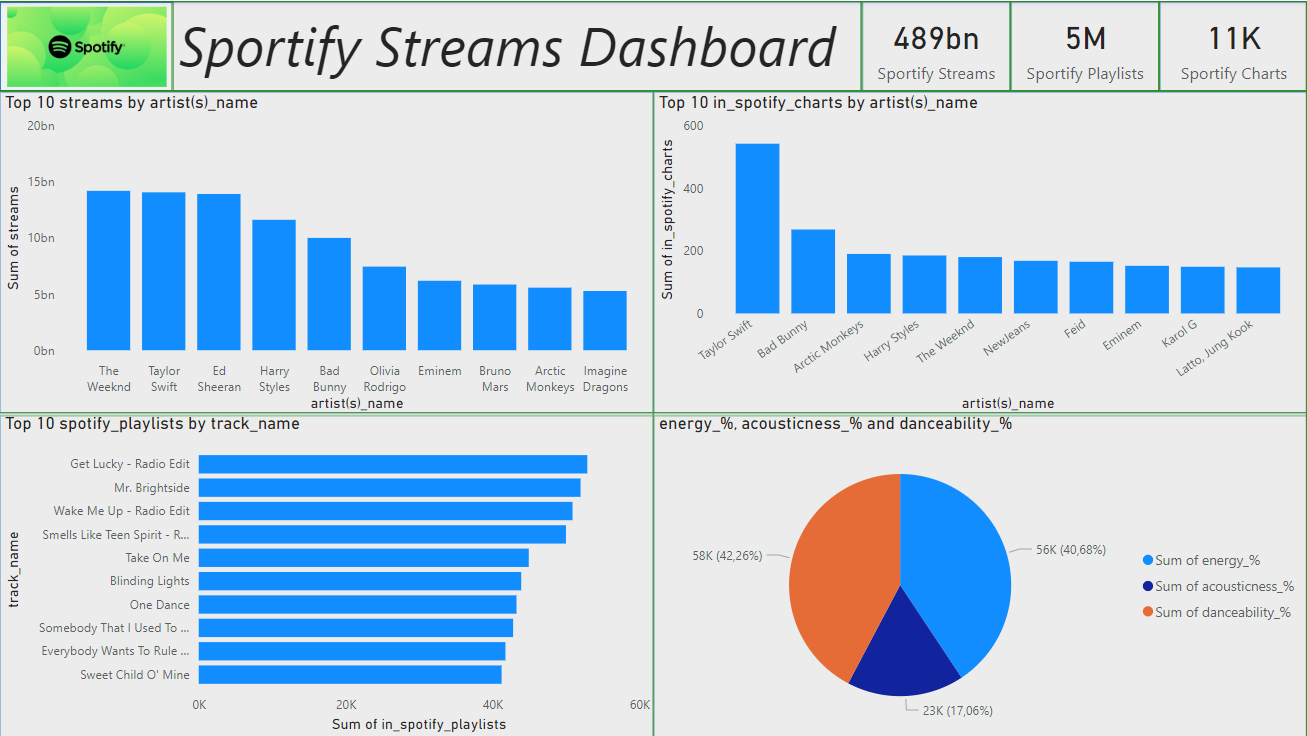

The page's visual inventory and layout, read from the dashboard file:
{"tool":"powerbi","page":{"name":"Page 2","canvas":[1280,720],"ordinal":1},"visuals":[{"type":"shape","box":[0,0,1280.3,87.8],"z":0},{"type":"shape","box":[0,87.8,640.8,318.4],"z":1000},{"type":"shape","box":[639.5,87.8,640.8,318.4],"z":2000},{"type":"shape","box":[0,402.4,640.8,317.8],"z":3000},{"type":"shape","box":[639.5,402.1,640.8,318.4],"z":4000},{"type":"image","box":[0,0,170,88],"z":5000},{"type":"textbox","box":[170,0,673.8,88],"z":6000},{"type":"columnChart","title":"Top 10 streams by artist(s)_name","fields":{"Y":["Sum(Popular_Spotify_Songs.streams)"],"Category":["Popular_Spotify_Songs.artist(s)_name"]},"box":[0,88.6,640.8,317.8],"z":7000},{"type":"columnChart","title":"Top 10 in_spotify_charts by artist(s)_name","fields":{"Y":["Sum(Popular_Spotify_Songs.in_spotify_charts)"],"Category":["Popular_Spotify_Songs.artist(s)_name"]},"box":[639.5,88.6,640.8,317.8],"z":8000},{"type":"clusteredBarChart","title":"Top 10  spotify_playlists by track_name","fields":{"Category":["Popular_Spotify_Songs.track_name"],"Y":["Sum(Popular_Spotify_Songs.in_spotify_playlists)"]},"box":[0,402.2,640.9,317.3],"z":9000},{"type":"shape","box":[843.8,0,145.5,88],"z":10000},{"type":"shape","box":[989.3,0,145.5,88],"z":11000},{"type":"shape","box":[1134.8,0,145.5,88],"z":12000},{"type":"card","fields":{"Values":["Popular_Spotify_Songs.Total Streams"]},"box":[843.8,0,145.5,88],"z":13000},{"type":"card","fields":{"Values":["Popular_Spotify_Songs.Sportify Playlists Total"]},"box":[989.3,0,145.5,88],"z":14000},{"type":"card","fields":{"Values":["Popular_Spotify_Songs.Sportify Charts"]},"box":[1134.8,0,145.5,88],"z":15000},{"type":"pieChart","title":" energy_%,  acousticness_% and danceability_%","fields":{"Y":["Sum(Popular_Spotify_Songs.energy_%)","Sum(Popular_Spotify_Songs.acousticness_%)","Sum(Popular_Spotify_Songs.danceability_%)"]},"box":[639.5,402.4,640.8,317.8],"z":16000}]}

Visuals, with their boxes in screenshot pixels (x1, y1, x2, y2), scaled from the page's 1280x720 canvas onto the 1307x736 screenshot:
shape: 0:0:1306:90
shape: 0:90:654:415
shape: 653:90:1306:415
shape: 0:411:654:735
shape: 653:411:1306:735
image: 0:0:174:90
textbox: 174:0:862:90
"Top 10 streams by artist(s)_name" columnChart: 0:91:654:415
"Top 10 in_spotify_charts by artist(s)_name" columnChart: 653:91:1306:415
"Top 10  spotify_playlists by track_name" clusteredBarChart: 0:411:654:735
shape: 862:0:1010:90
shape: 1010:0:1159:90
shape: 1159:0:1306:90
card - Popular_Spotify_Songs.Total Streams: 862:0:1010:90
card - Popular_Spotify_Songs.Sportify Playlists Total: 1010:0:1159:90
card - Popular_Spotify_Songs.Sportify Charts: 1159:0:1306:90
" energy_%,  acousticness_% and danceability_%" pieChart: 653:411:1306:735
